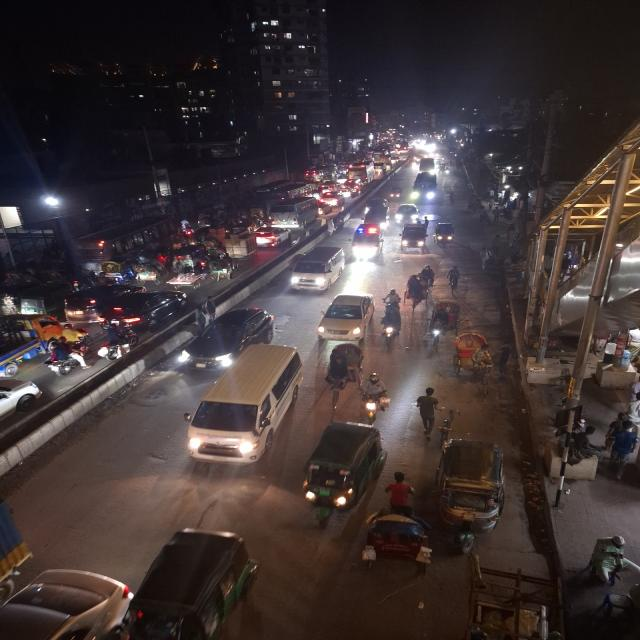bicycle: (442, 404, 459, 447), (445, 265, 462, 298)
bus: (75, 216, 185, 261), (267, 196, 320, 228), (410, 171, 439, 205)
car: (183, 343, 306, 464), (1, 566, 133, 640), (179, 305, 276, 371), (105, 288, 190, 330), (317, 290, 374, 343), (288, 244, 346, 294), (0, 376, 45, 422), (254, 226, 292, 248), (394, 202, 420, 226), (322, 192, 348, 208)
cng: (127, 526, 260, 640), (300, 420, 386, 525), (434, 436, 508, 550), (63, 284, 103, 322), (206, 255, 240, 282), (432, 221, 459, 249), (386, 186, 404, 201)
motorcycle: (41, 338, 84, 377), (96, 326, 141, 362), (361, 371, 390, 422), (380, 286, 403, 350), (386, 187, 403, 200)
pedestrian: (414, 384, 442, 436), (477, 247, 492, 269)
pickup_van: (2, 317, 40, 376), (220, 232, 259, 260), (398, 222, 429, 255)
rickshaw: (359, 508, 434, 572), (451, 328, 496, 394), (322, 340, 365, 400), (427, 299, 459, 346), (404, 275, 428, 318), (432, 220, 459, 249), (165, 270, 203, 290), (135, 262, 161, 284)
truck: (268, 196, 322, 228), (348, 224, 383, 264), (361, 198, 391, 230)
